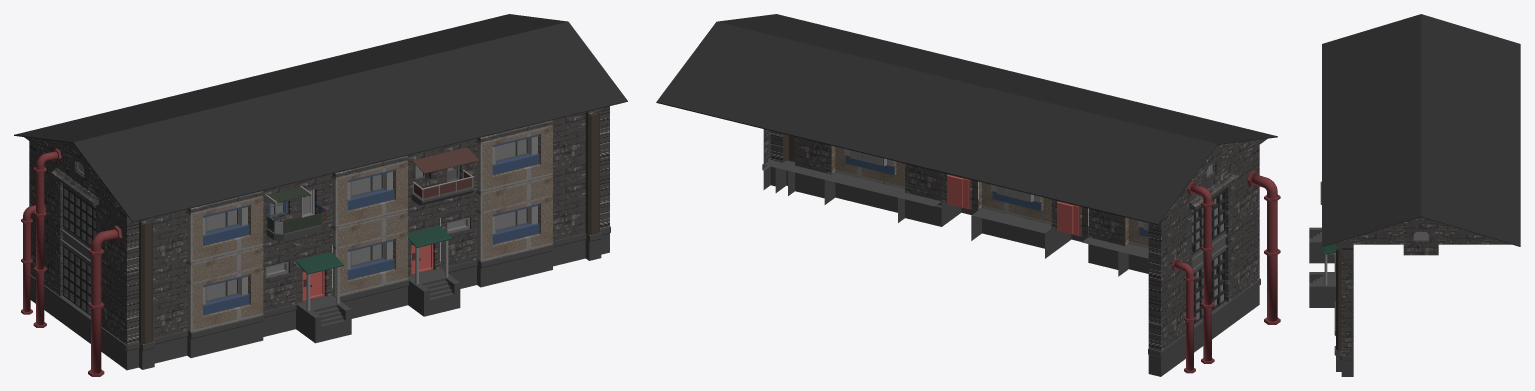
File: BLOCK1.1.fbx
3 renders of one model, left to right at view 1: azimuth 30°, elevation 25°; view 2: azimuth 150°, elevation 25°; view 3: azimuth 270°, elevation 25°, orthographic. The views are drawn at different scales.
Visible parts, largest first — view 1: Plane.324, Plane.204, Plane.139, Plane.199, Plane.171, Plane.083, GeoPipes.005, GeoPipes.007, Plane.146, Plane.186, Plane.180, Plane.150 (+5 smaller); view 2: Plane.324, Plane.204, Plane.199, Plane.139, Plane.083, GeoPipes.005, GeoPipes.007, Plane.171, GeoPipes.003, Plane.160, Plane.151; view 3: Plane.324, Plane.204, Plane.199, Plane.159.
Part boxes in pixels (box(x1,y1,x2,y2)): Plane.324: box(14, 14, 627, 222); Plane.204: box(29, 106, 609, 344); Plane.139: box(187, 124, 552, 332); Plane.199: box(30, 226, 610, 370); Plane.171: box(203, 134, 539, 315); Plane.083: box(61, 184, 95, 315); GeoPipes.005: box(88, 225, 122, 376); GeoPipes.007: box(33, 148, 61, 327); Plane.146: box(265, 164, 469, 277); Plane.186: box(266, 202, 325, 241); Plane.180: box(411, 169, 474, 205); Plane.150: box(296, 252, 343, 310); Plane.324: box(656, 14, 1277, 225); Plane.204: box(763, 129, 1259, 351); Plane.199: box(762, 159, 1260, 376); Plane.139: box(831, 146, 1148, 248); Plane.083: box(1192, 188, 1227, 323); GeoPipes.005: box(1247, 171, 1280, 324); GeoPipes.007: box(1187, 181, 1214, 363); Plane.171: box(844, 149, 1148, 237); GeoPipes.003: box(1172, 258, 1195, 373); Plane.160: box(947, 174, 970, 209); Plane.151: box(1057, 200, 1080, 236); Plane.324: box(1322, 14, 1520, 246); Plane.204: box(1336, 223, 1485, 355); Plane.199: box(1309, 227, 1353, 376); Plane.159: box(1322, 244, 1335, 285).
Bounding box in the file's own units: 4279 × 1582 × 1808.
